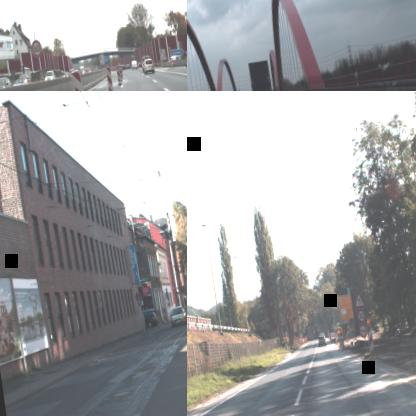no overtaking (trucks): (358, 323, 367, 338)
road narrows: (350, 287, 366, 308)
speed limit 30: (355, 308, 366, 324)
speed limit 60: (30, 38, 43, 58)
